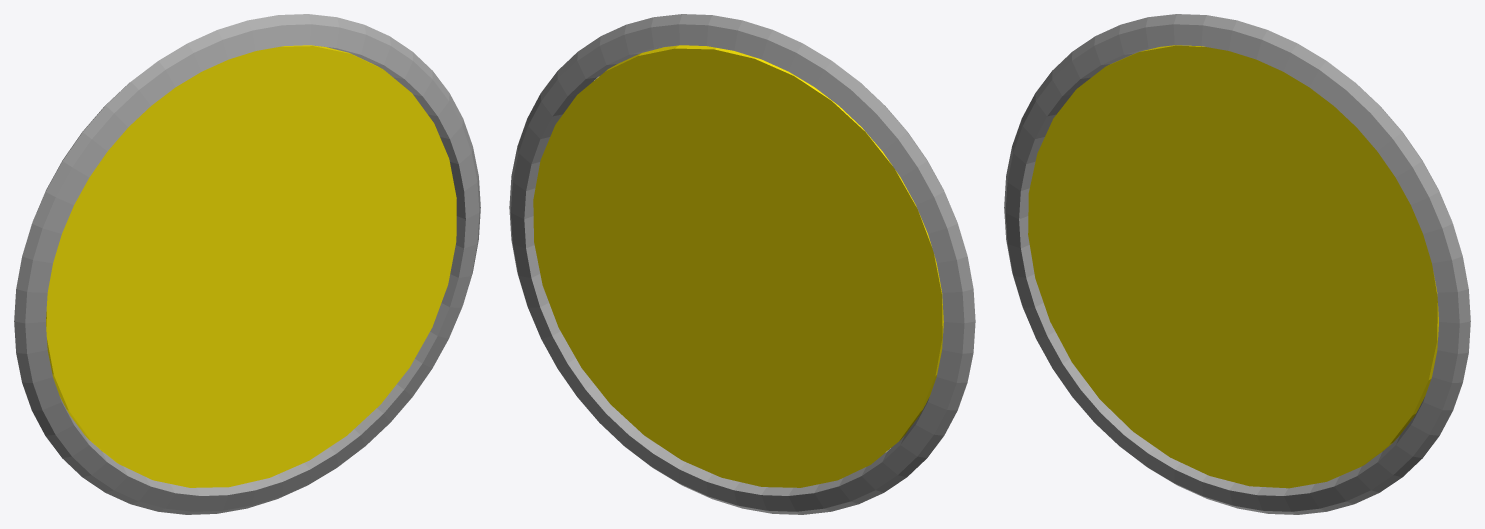
Rendered from platform.fbx.
3 renders of one model, left to right at view 1: azimuth 30°, elevation 25°; view 2: azimuth 150°, elevation 25°; view 3: azimuth 330°, elevation 25°, orthographic.
Visible parts, largest first — view 1: Cylinder, Torus.001; view 2: Cylinder, Torus.001; view 3: Cylinder, Torus.001.
Part boxes in pixels (x1=…): Cylinder: x1=46, y1=45, x2=456, y2=487; Torus.001: x1=14, y1=14, x2=480, y2=514; Cylinder: x1=533, y1=45, x2=943, y2=487; Torus.001: x1=509, y1=14, x2=975, y2=514; Cylinder: x1=1028, y1=45, x2=1438, y2=488; Torus.001: x1=1004, y1=14, x2=1470, y2=514.
Bounding box in the file's own units: 788 × 788 × 50.14.
